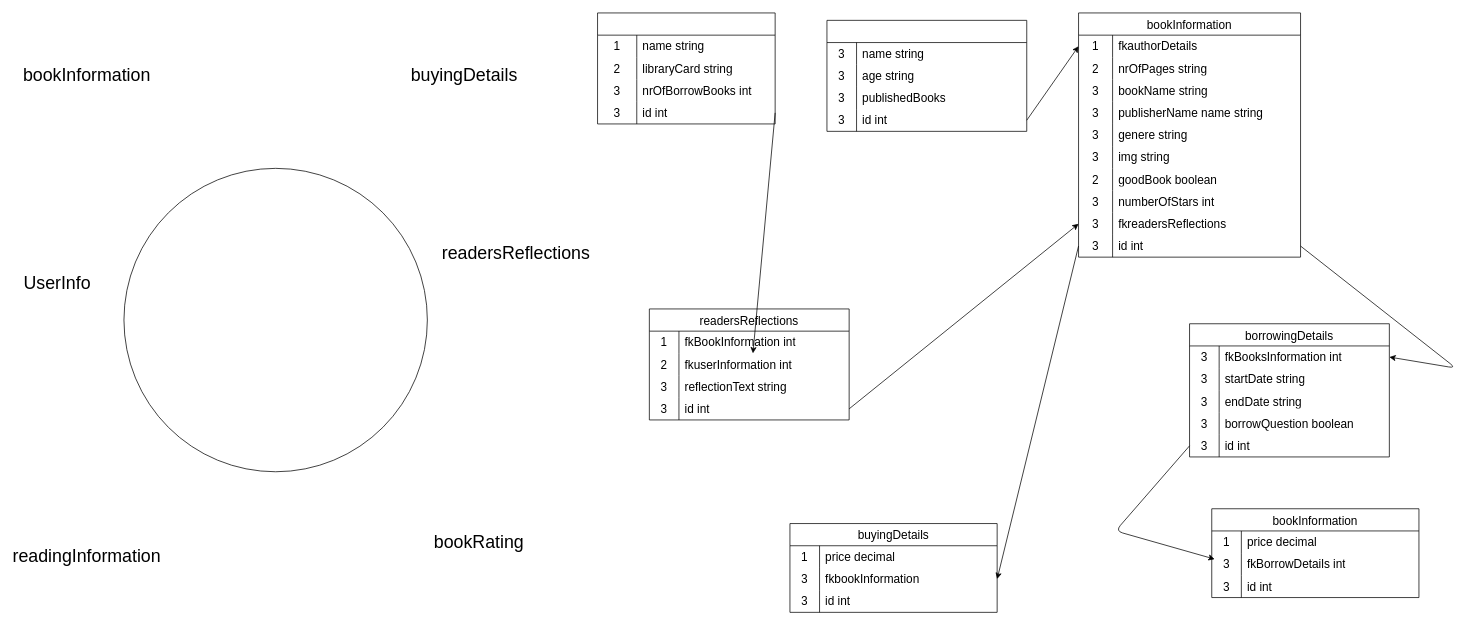
Some shapes in this 1475 by 625 pixel diagram are drawn without their labels. Each missing label, with the box of its shape:
authorDetails: (826, 20, 1027, 131)
Home library: (123, 168, 427, 472)
userInformation: (597, 12, 775, 124)
